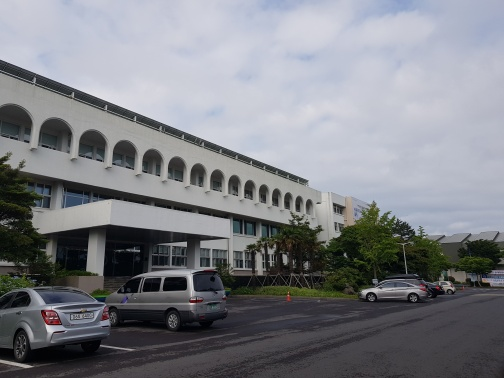Main Building of University: (8, 67, 363, 269), (38, 115, 225, 196), (43, 199, 237, 267), (226, 173, 314, 218)
